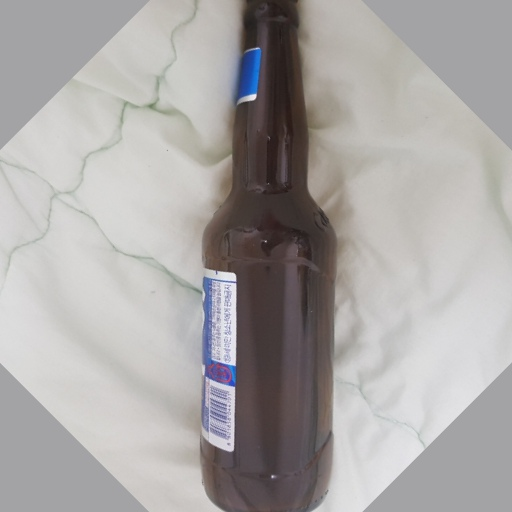Glass_1: (204, 6, 334, 512)
